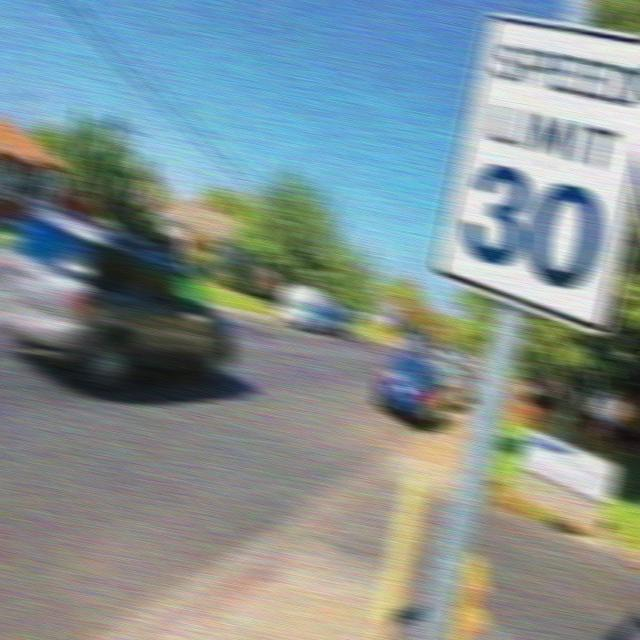speedLimit35: (432, 11, 638, 335)
